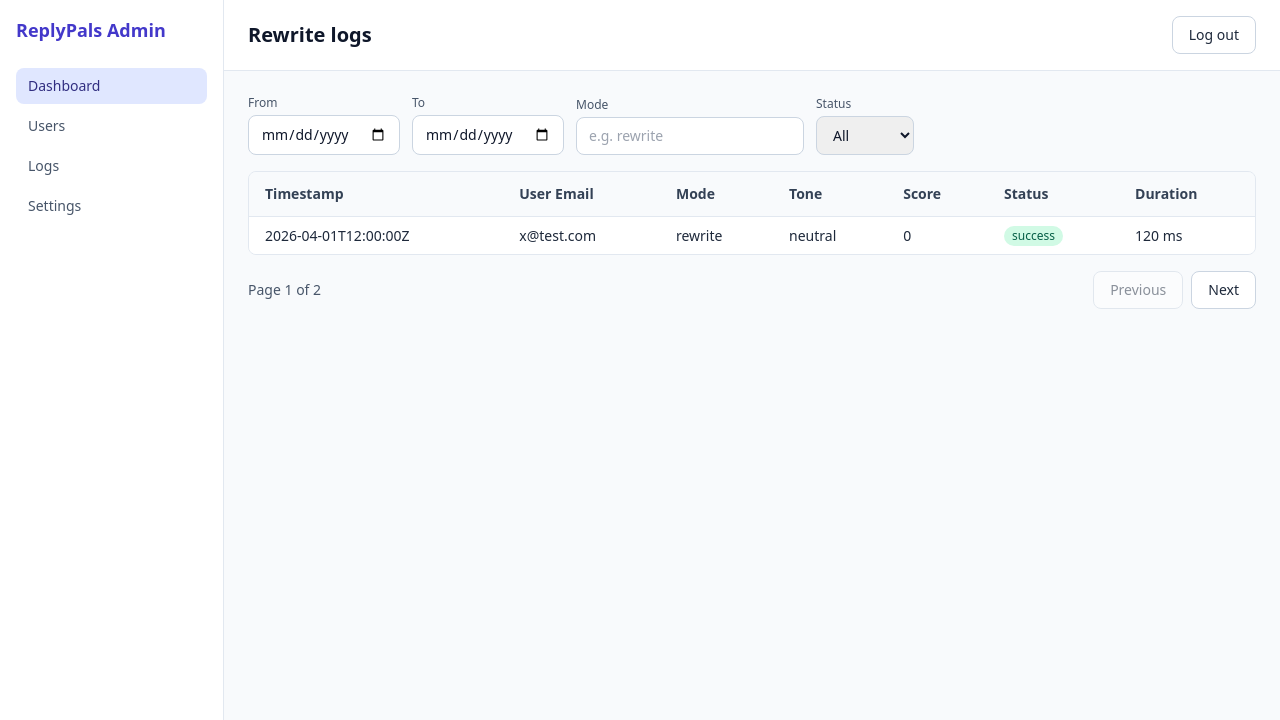
LogsPage › pagination navigates correctly
This screenshot has width=1280, height=720.
Expected: the text "Page 1 of 2" is shown, [248,280,321,300]
Click the button "Next" at (1224, 290), box [1191,271,1256,309]
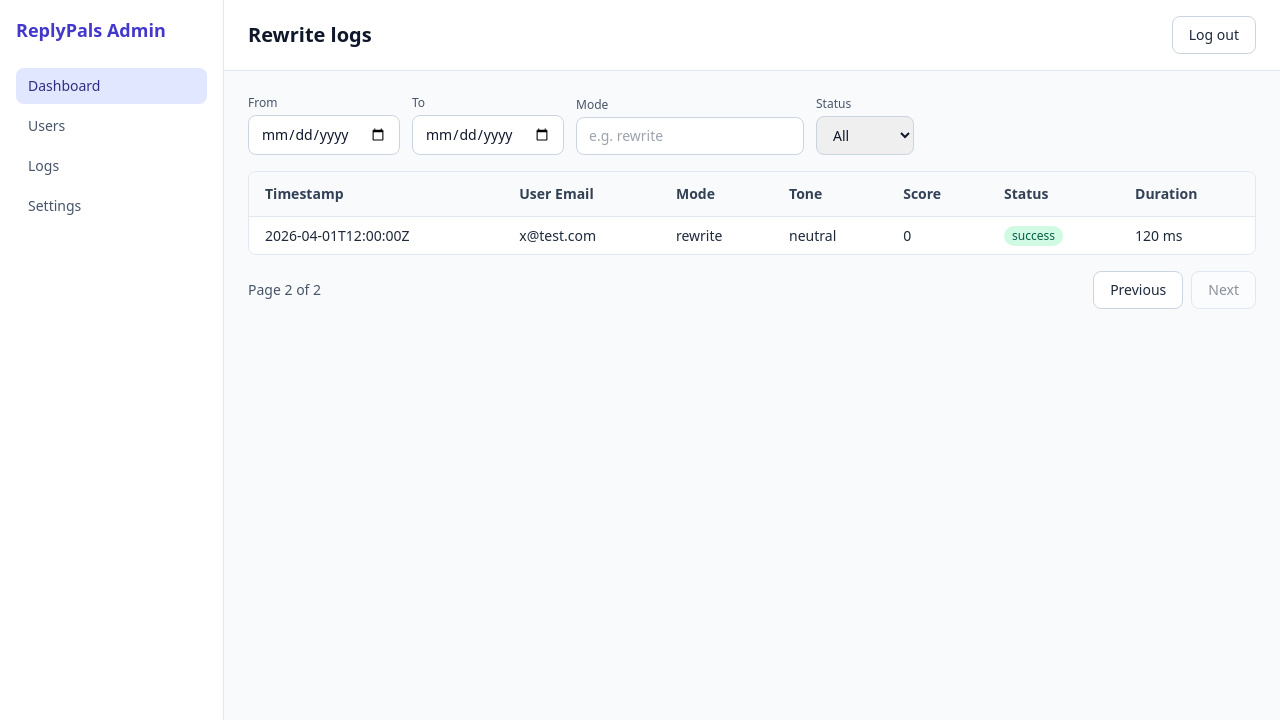
Expected: the text "Page 2 of 2" is shown, [248,280,321,300]
